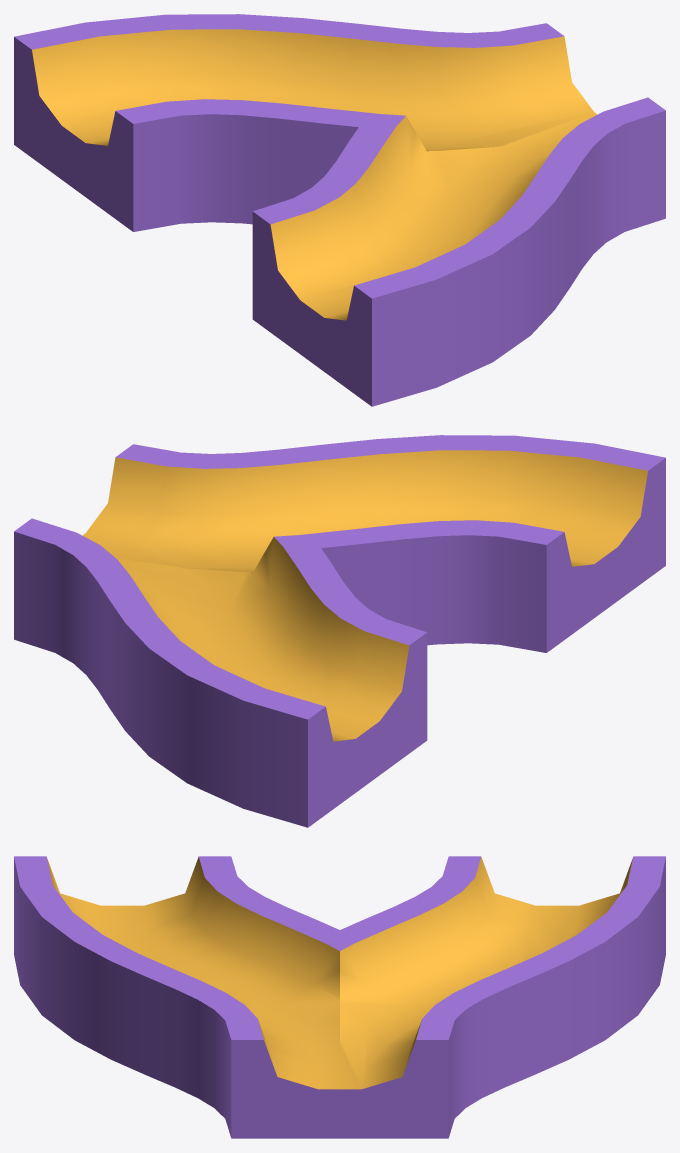
The model's file is split-double-col.glb.
3 renders of one model, top to bottom at view 1: azimuth 30°, elevation 25°; view 2: azimuth 150°, elevation 25°; view 3: azimuth 270°, elevation 25°, orthographic. The views are drawn at different scales.
Visible parts, largest first — view 1: split-double-col; view 2: split-double-col; view 3: split-double-col.
Part boxes in pixels (box(x1,y1,x2,y2)): split-double-col: box(14, 14, 665, 406); split-double-col: box(14, 435, 665, 827); split-double-col: box(14, 856, 665, 1138).
Size of the model in its own units: 2 by 0.5 by 3.
1 material, 1 textured.
